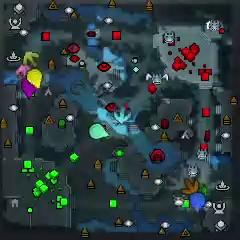p1: (189, 192, 206, 212)
p2: (88, 123, 110, 140)
p3: (22, 79, 37, 99)
p4: (26, 68, 44, 88)
x1: (16, 65, 32, 76)
x2: (22, 51, 41, 68)
x3: (113, 107, 131, 124)
x4: (197, 183, 207, 196)
x5: (183, 178, 200, 195)
